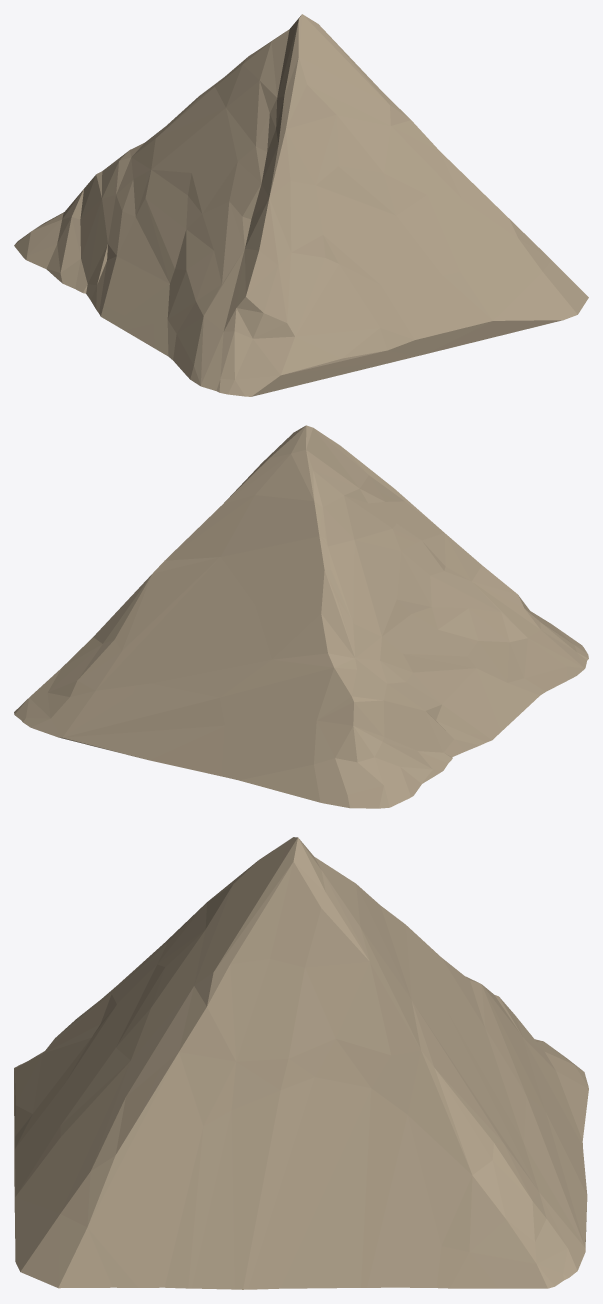
3 views of the same model, one above another, from view 1: azimuth 30°, elevation 25°; view 2: azimuth 150°, elevation 25°; view 3: azimuth 270°, elevation 25° (orthographic). The views are drawn at different scales.
Visible parts, largest first — view 1: Pyramid; view 2: Pyramid; view 3: Pyramid.
Part boxes in pixels (x1,y1,x2,y2): Pyramid: [14, 14, 588, 396]; Pyramid: [14, 425, 588, 808]; Pyramid: [14, 837, 588, 1289].
Bounding box in the file's own units: 134288 × 86288 × 135545.
1 material, 1 textured.
